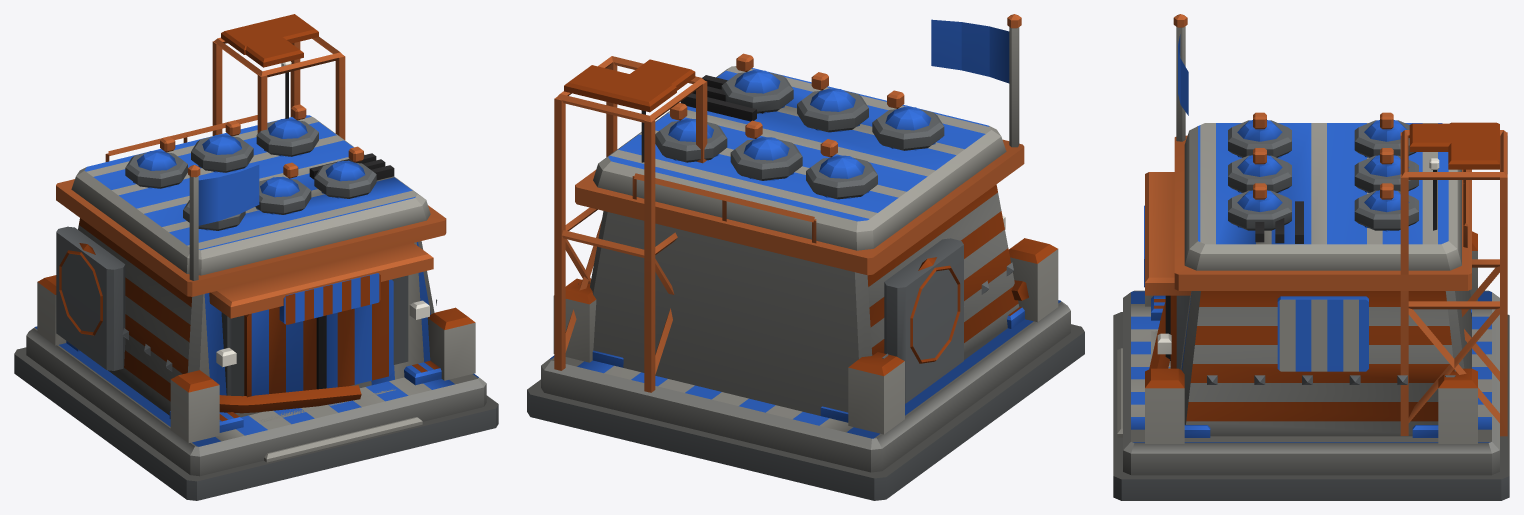
The picture shows the model from 3 angles, left to right: view 1: azimuth 30°, elevation 25°; view 2: azimuth 150°, elevation 25°; view 3: azimuth 270°, elevation 25°; orthographic projection. The views are drawn at different scales.
Visible parts, largest first — view 1: body, scaffoldFrame, swayFlag; view 2: body, scaffoldFrame, swayFlag; view 3: body, scaffoldFrame, swayFlag.
Boxes of the visible parts, <box> form: body: <box>14,61,498,500</box>; scaffoldFrame: <box>212,14,345,139</box>; swayFlag: <box>198,165,259,225</box>; body: <box>527,14,1084,500</box>; scaffoldFrame: <box>554,56,707,392</box>; swayFlag: <box>931,19,1009,83</box>; body: <box>1113,14,1509,500</box>; scaffoldFrame: <box>1400,122,1507,436</box>; swayFlag: <box>1178,34,1188,115</box>.
Bounding box in the file's own units: 2 × 1.88 × 2.
